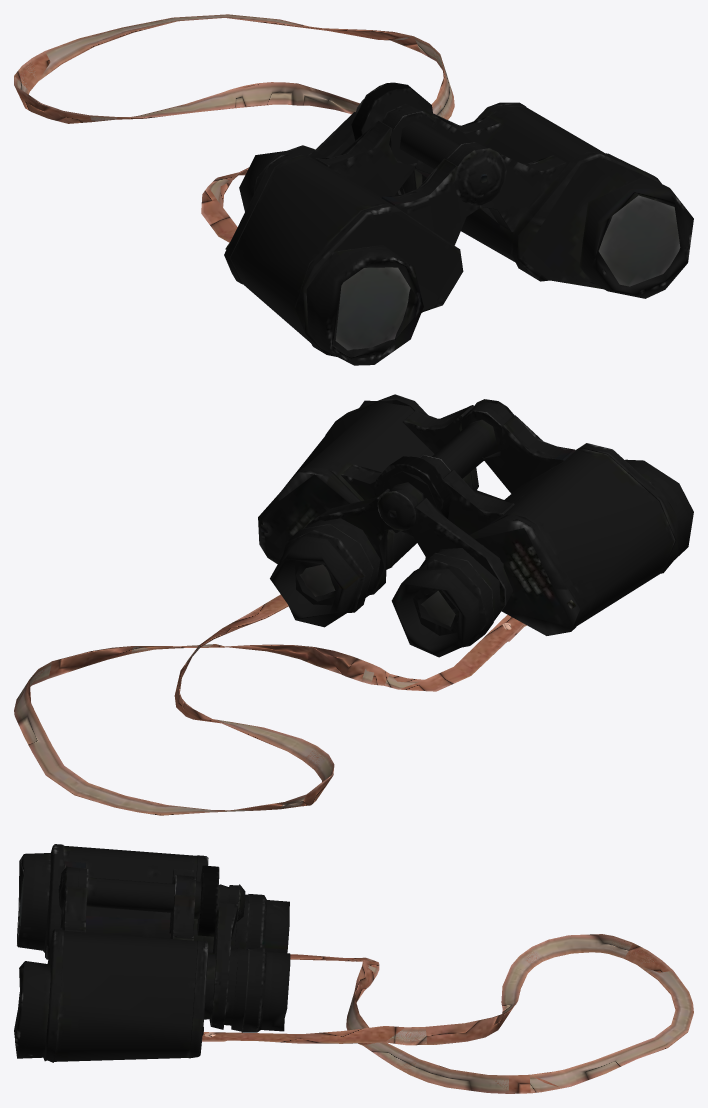
File: binoculars.glb
The picture shows the model from 3 angles, top to bottom: view 1: azimuth 30°, elevation 25°; view 2: azimuth 150°, elevation 25°; view 3: azimuth 270°, elevation 25°; orthographic projection. The views are drawn at different scales.
Visible parts, largest first — view 1: binoculars_left, binoculars_strap; view 2: binoculars_left, binoculars_strap; view 3: binoculars_left, binoculars_strap.
Part boxes in pixels (box(x1,y1,x2,y2)): binoculars_left: box(224, 82, 693, 365); binoculars_strap: box(14, 14, 454, 242); binoculars_left: box(258, 394, 693, 657); binoculars_strap: box(14, 594, 526, 815); binoculars_left: box(14, 844, 290, 1062); binoculars_strap: box(202, 934, 693, 1093).
Bounding box in the file's own units: 0.1668 × 0.0655 × 0.2873.
2 materials, 2 textured.
